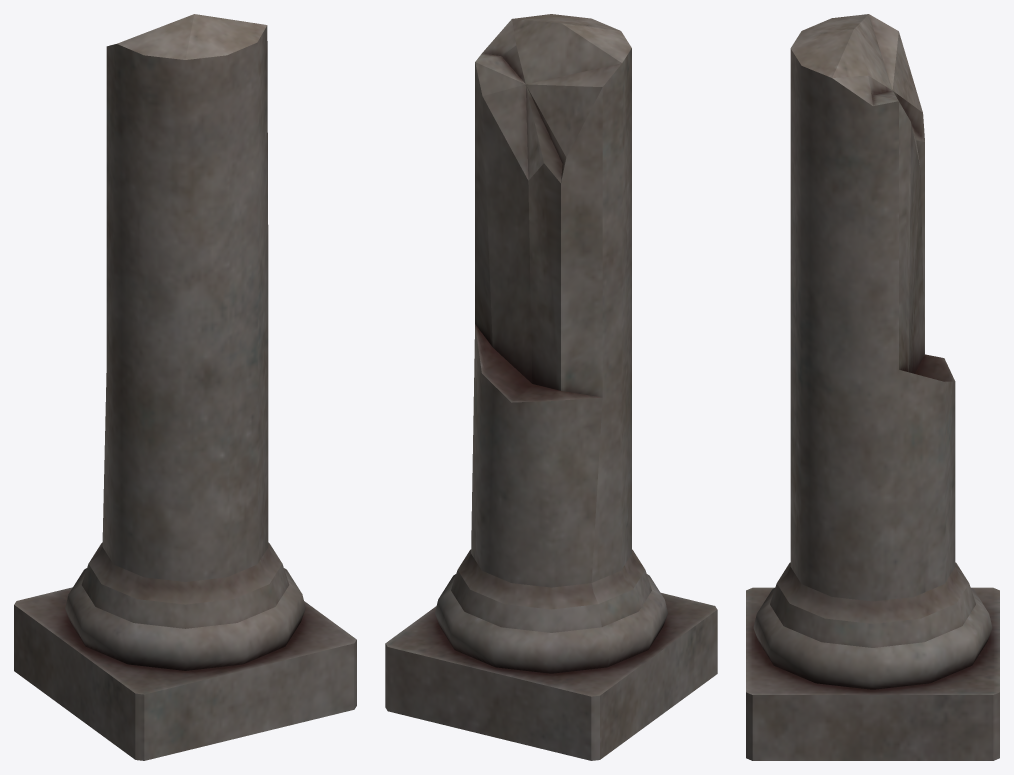
The model's file is sb_obj_outdoor009_AncientTemple_pillar03C.fbx.
The picture shows the model from 3 angles, left to right: view 1: azimuth 30°, elevation 25°; view 2: azimuth 150°, elevation 25°; view 3: azimuth 270°, elevation 25°; orthographic projection. The views are drawn at different scales.
Parts seen in each view (by area): view 1: sb_obj_outdoor009_AncientTemple_pillar03C; view 2: sb_obj_outdoor009_AncientTemple_pillar03C; view 3: sb_obj_outdoor009_AncientTemple_pillar03C.
Boxes of the visible parts, <box> form: sb_obj_outdoor009_AncientTemple_pillar03C: <box>14,14,356,760</box>; sb_obj_outdoor009_AncientTemple_pillar03C: <box>385,14,717,760</box>; sb_obj_outdoor009_AncientTemple_pillar03C: <box>746,14,999,760</box>.
Bounding box in the file's own units: 1.05 × 3.08 × 1.05.
